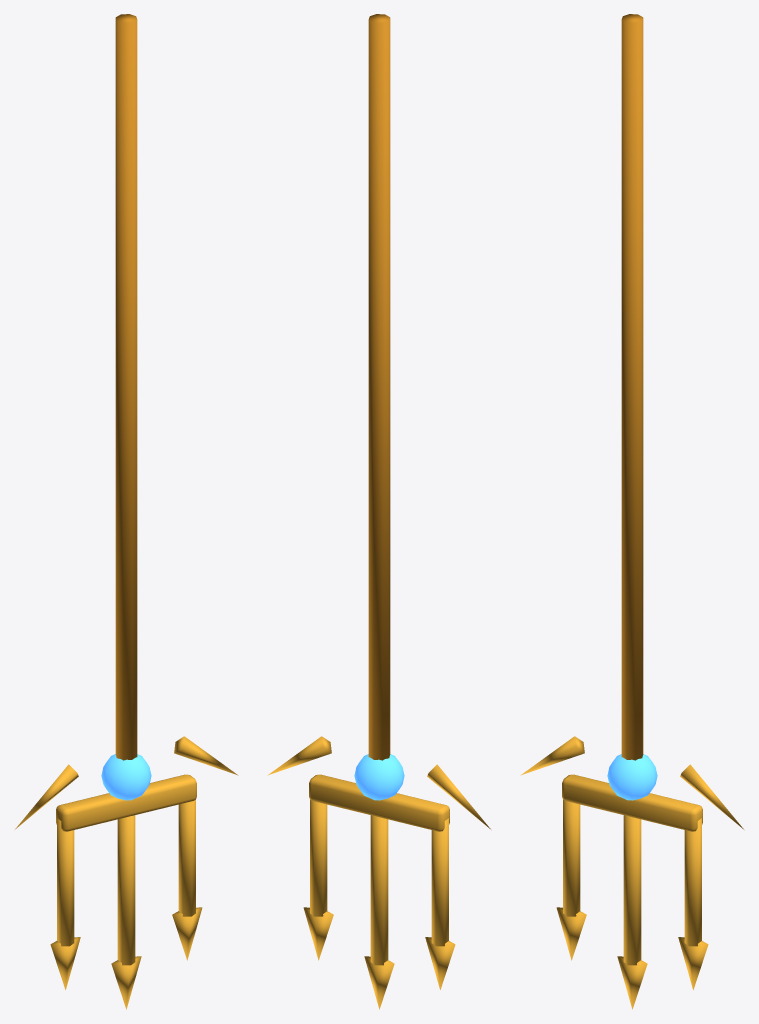
Rendered from weapon_nautico_lendaria.glb.
The picture shows the model from 3 angles, left to right: view 1: azimuth 30°, elevation 25°; view 2: azimuth 150°, elevation 25°; view 3: azimuth 330°, elevation 25°; orthographic projection.
Visible parts, largest first — view 1: weapon_nautico_lendaria; view 2: weapon_nautico_lendaria; view 3: weapon_nautico_lendaria.
Part boxes in pixels (x1=…): weapon_nautico_lendaria: x1=15, y1=14, x2=238, y2=1009; weapon_nautico_lendaria: x1=267, y1=14, x2=490, y2=1009; weapon_nautico_lendaria: x1=520, y1=14, x2=743, y2=1009.
Bounding box in the file's own units: 1.03 × 4.36 × 0.2.
